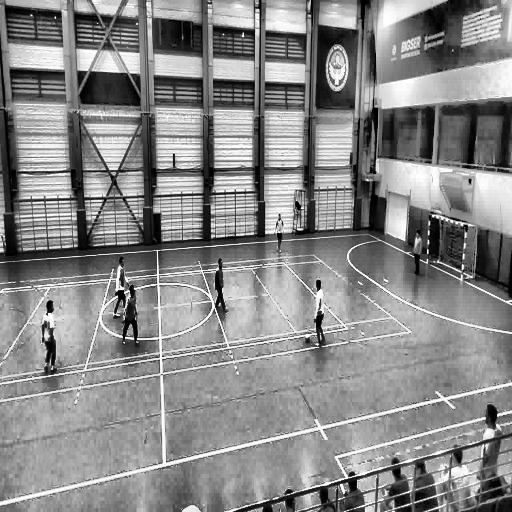ball: (305, 333, 311, 345)
player: (42, 300, 58, 375), (122, 284, 140, 346), (311, 279, 327, 348), (112, 256, 129, 320), (213, 258, 228, 312), (412, 229, 422, 276), (274, 213, 284, 253)
